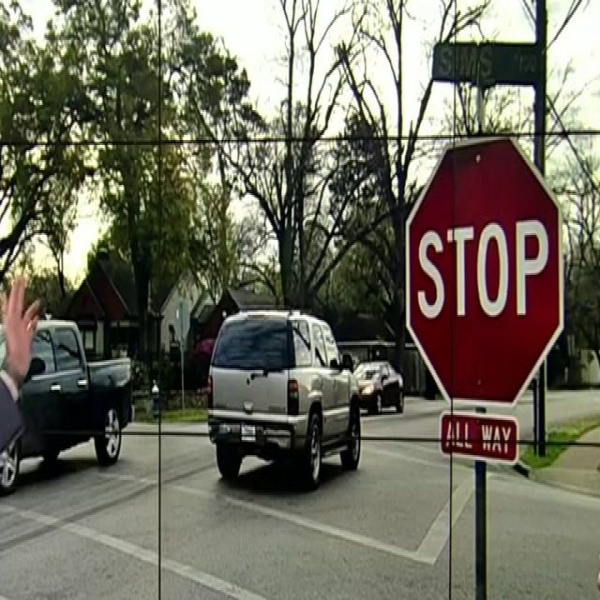stop: (403, 148, 557, 412)
